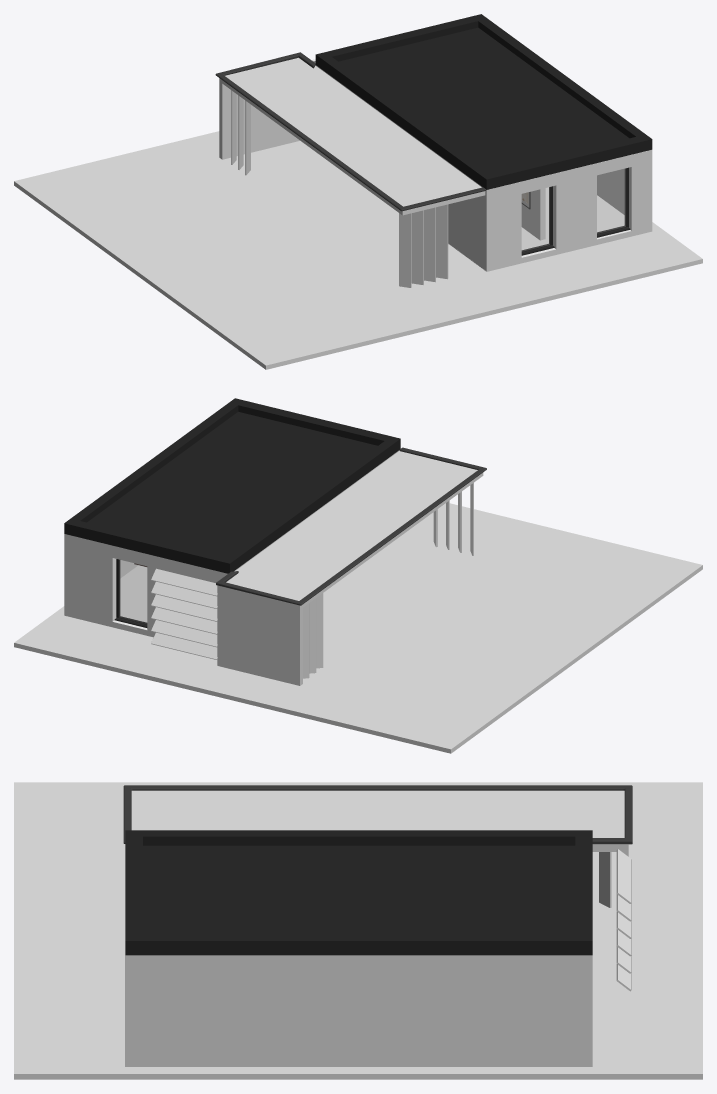
The model's file is house_exterior2.glb.
3 views of the same model, one above another, from view 1: azimuth 30°, elevation 25°; view 2: azimuth 150°, elevation 25°; view 3: azimuth 270°, elevation 25° (orthographic). The views are drawn at different scales.
Visible parts, largest first — view 1: terrace, Roof, Roof_trim_wall, main_walls, Wood panels.012, front_wall, Roof trim, Glass.001, Glass, Wood panels.011, Floor, wall_decoration_interior; view 2: terrace, Roof, Roof_trim_wall, main_walls, Wood panels.013, Roof trim, Glass.004, Wood panels.011, Floor, Wood panels.012; view 3: terrace, Roof, main_walls, Roof_trim_wall, Roof trim, Wood panels.013, Wood panels.011.
Part boxes in pixels (bbox=[...]): terrace: bbox=[14, 131, 702, 369]; Roof: bbox=[315, 14, 652, 189]; Roof_trim_wall: bbox=[219, 57, 485, 215]; main_walls: bbox=[486, 150, 652, 271]; Wood panels.012: bbox=[399, 204, 448, 287]; front_wall: bbox=[315, 65, 486, 271]; Roof trim: bbox=[215, 52, 486, 211]; Glass.001: bbox=[597, 169, 625, 233]; Glass: bbox=[522, 187, 549, 251]; Wood panels.011: bbox=[231, 90, 250, 175]; Floor: bbox=[521, 187, 624, 250]; wall_decoration_interior: bbox=[521, 188, 545, 240]; terrace: bbox=[14, 503, 702, 753]; Roof: bbox=[64, 398, 400, 573]; Roof_trim_wall: bbox=[217, 451, 483, 685]; main_walls: bbox=[64, 534, 227, 637]; Wood panels.013: bbox=[151, 568, 217, 659]; Roof trim: bbox=[216, 447, 486, 605]; Glass.004: bbox=[119, 560, 146, 623]; Wood panels.011: bbox=[303, 593, 323, 678]; Floor: bbox=[120, 565, 147, 622]; Wood panels.012: bbox=[433, 483, 473, 555]; terrace: bbox=[14, 782, 702, 1079]; Roof: bbox=[125, 830, 592, 955]; main_walls: bbox=[125, 845, 592, 1066]; Roof_trim_wall: bbox=[131, 790, 628, 856]; Roof trim: bbox=[123, 785, 632, 844]; Wood panels.013: bbox=[616, 849, 631, 991]; Wood panels.011: bbox=[599, 852, 611, 907].
Size of the model in its own units: 16.78 by 3.55 by 16.75.
54 materials, 24 textured.
